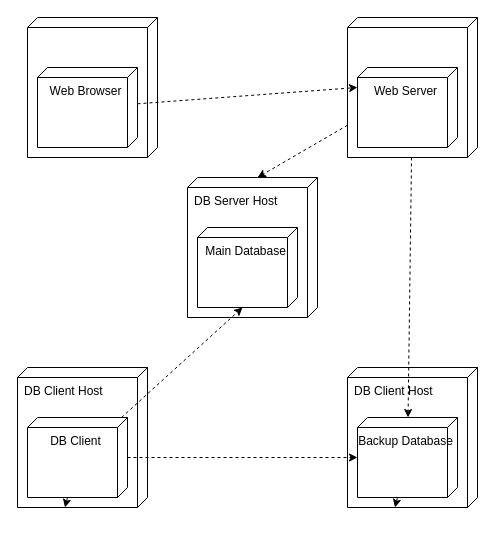
Image size: 495x533. Some labels were removed from this diagram. The box of each missing label's shape, as (x1, y1, x2, y2) in pixels:
ClientHost: (26, 16, 158, 158)
WebServerHost: (346, 16, 478, 158)
